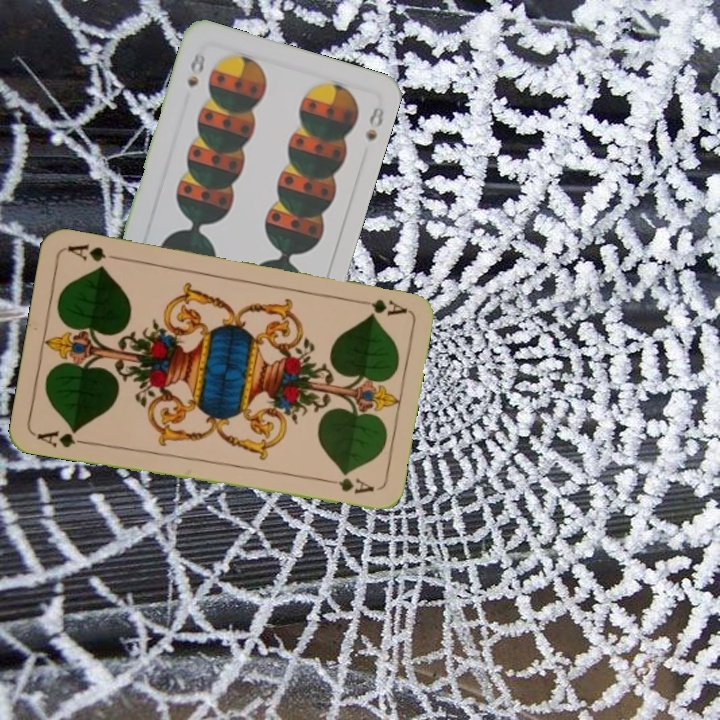GA: (33, 425, 92, 450), (350, 295, 409, 318)
S8: (183, 48, 208, 90)
